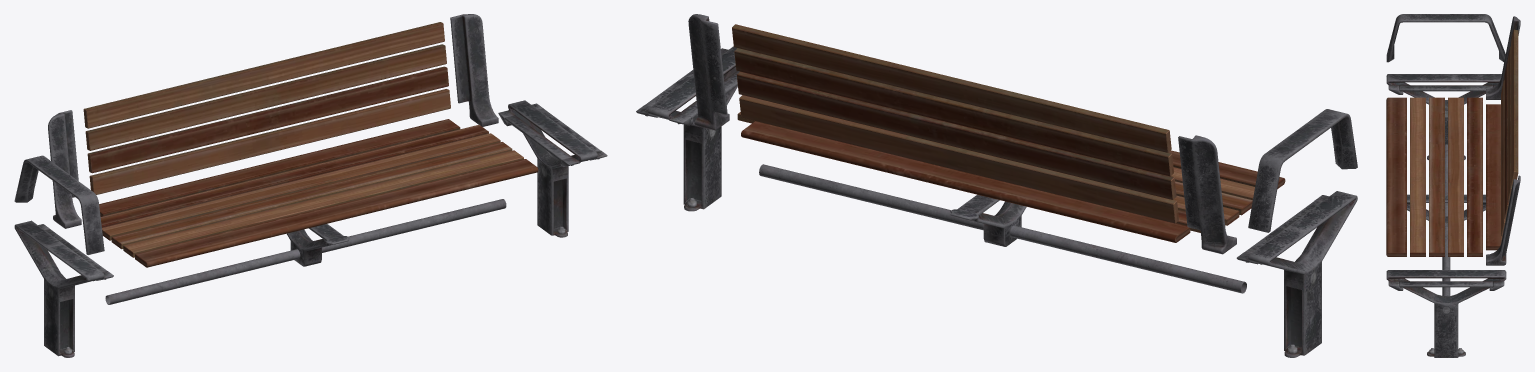
File: banc_modulaire_lod0.glb
The picture shows the model from 3 angles, left to right: view 1: azimuth 30°, elevation 25°; view 2: azimuth 150°, elevation 25°; view 3: azimuth 270°, elevation 25°; orthographic projection. The views are drawn at different scales.
Parts seen in each view (by area): view 1: seat, legs_double, crossbar, back_support_r; view 2: seat, legs_double, crossbar, back_support_r; view 3: seat, legs_double, crossbar, back_support_r.
Part boxes in pixels (bbox=[...]): seat: bbox=[83, 22, 538, 267]; legs_double: bbox=[14, 100, 607, 357]; crossbar: bbox=[14, 14, 506, 304]; back_support_r: bbox=[48, 110, 81, 228]; seat: bbox=[732, 24, 1285, 242]; legs_double: bbox=[636, 46, 1357, 357]; crossbar: bbox=[688, 14, 1357, 293]; back_support_r: bbox=[1178, 135, 1236, 254]; seat: bbox=[1386, 29, 1518, 256]; legs_double: bbox=[1386, 74, 1506, 357]; crossbar: bbox=[1386, 14, 1520, 296]; back_support_r: bbox=[1486, 16, 1520, 99].
Size of the model in its own units: 2.45 by 0.867 by 0.6704.
Materials: 3 (3 with a texture image).
